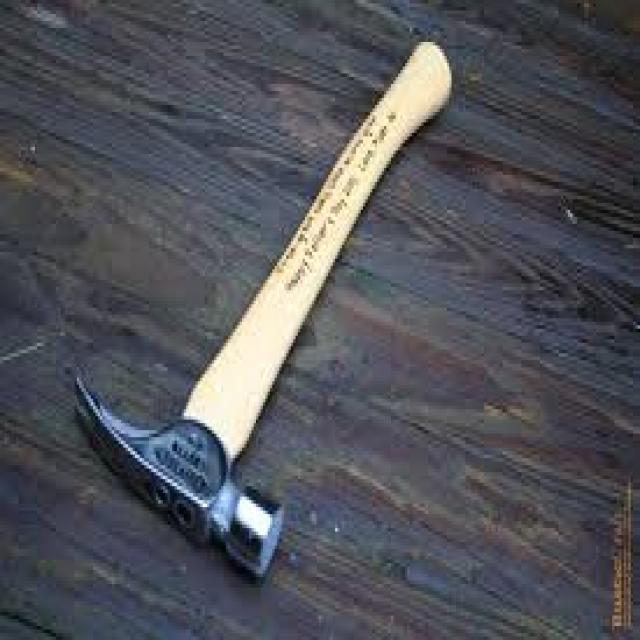hammer: (68, 41, 456, 590)
